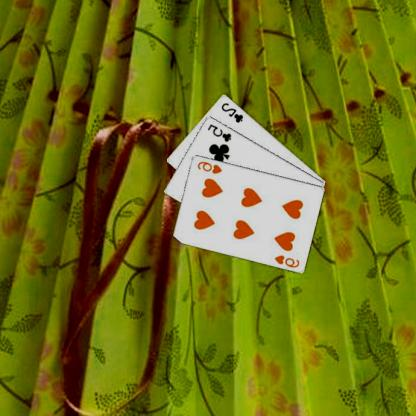2C: (220, 100, 246, 124)
5C: (207, 121, 234, 143)
6H: (196, 158, 225, 175), (274, 252, 302, 269)
